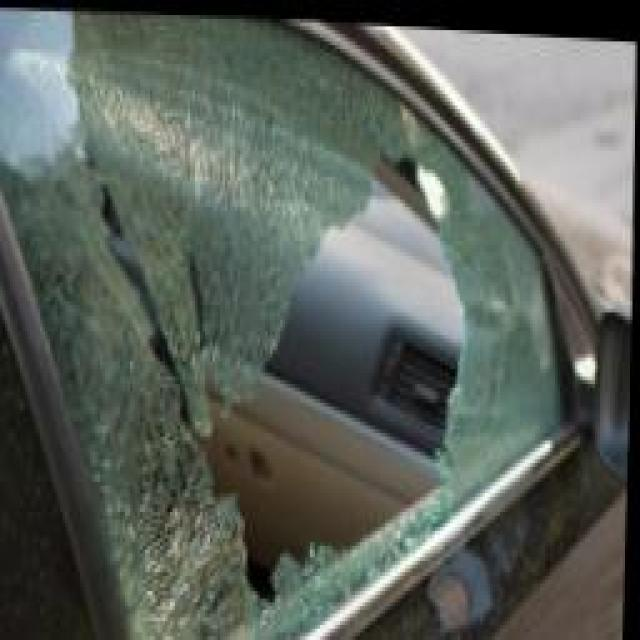Door: (0, 14, 598, 640)
